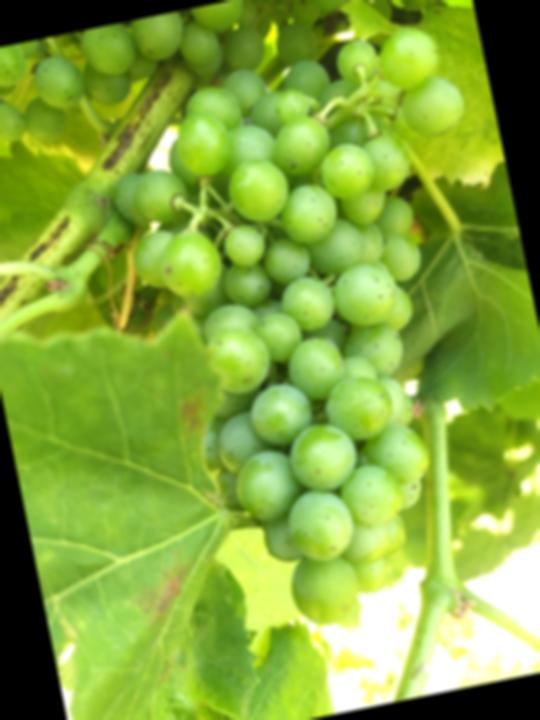grape: (85, 17, 540, 654)
